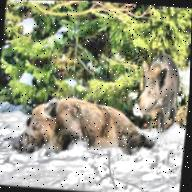boar: (14, 89, 160, 170), (129, 49, 191, 128)
